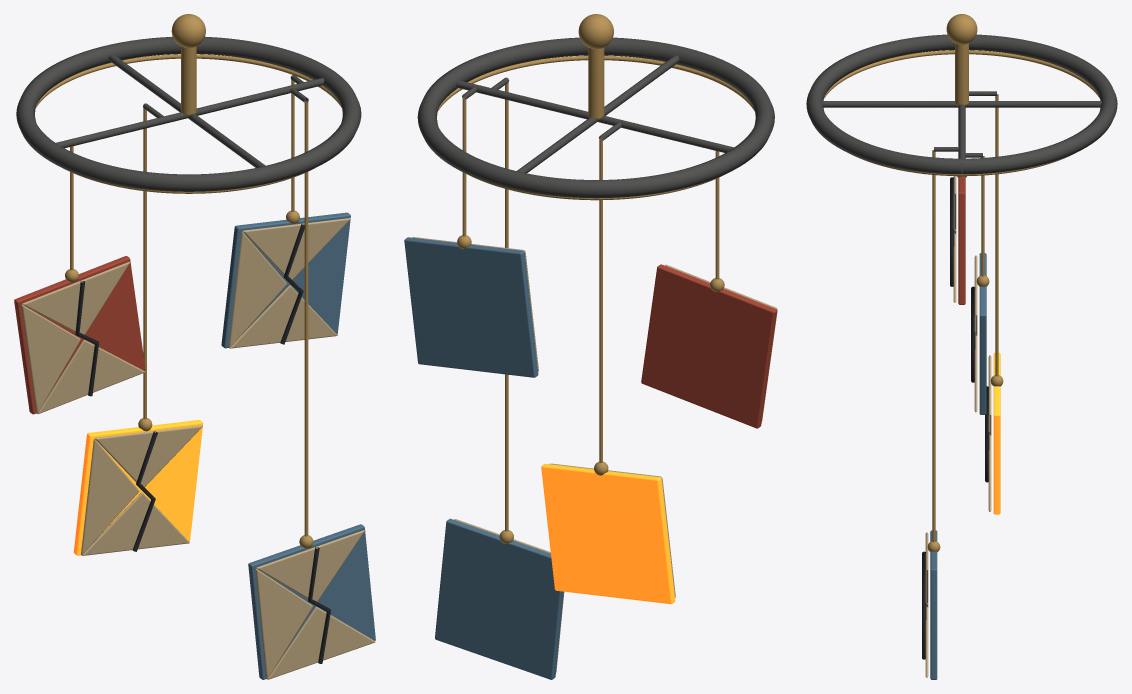
Rendered from aventura_mobile_cartas.glb.
3 renders of one model, left to right at view 1: azimuth 30°, elevation 25°; view 2: azimuth 150°, elevation 25°; view 3: azimuth 270°, elevation 25°, orthographic. The views are drawn at different scales.
Visible parts, largest first — view 1: mobile_cartas; view 2: mobile_cartas; view 3: mobile_cartas.
Part boxes in pixels (<box>): mobile_cartas: <box>14,14,375,679</box>; mobile_cartas: <box>404,14,777,679</box>; mobile_cartas: <box>806,14,1117,679</box>.
Size of the model in its own units: 0.2569 by 0.4729 by 0.222.
Materials: 7 (1 with a texture image).
